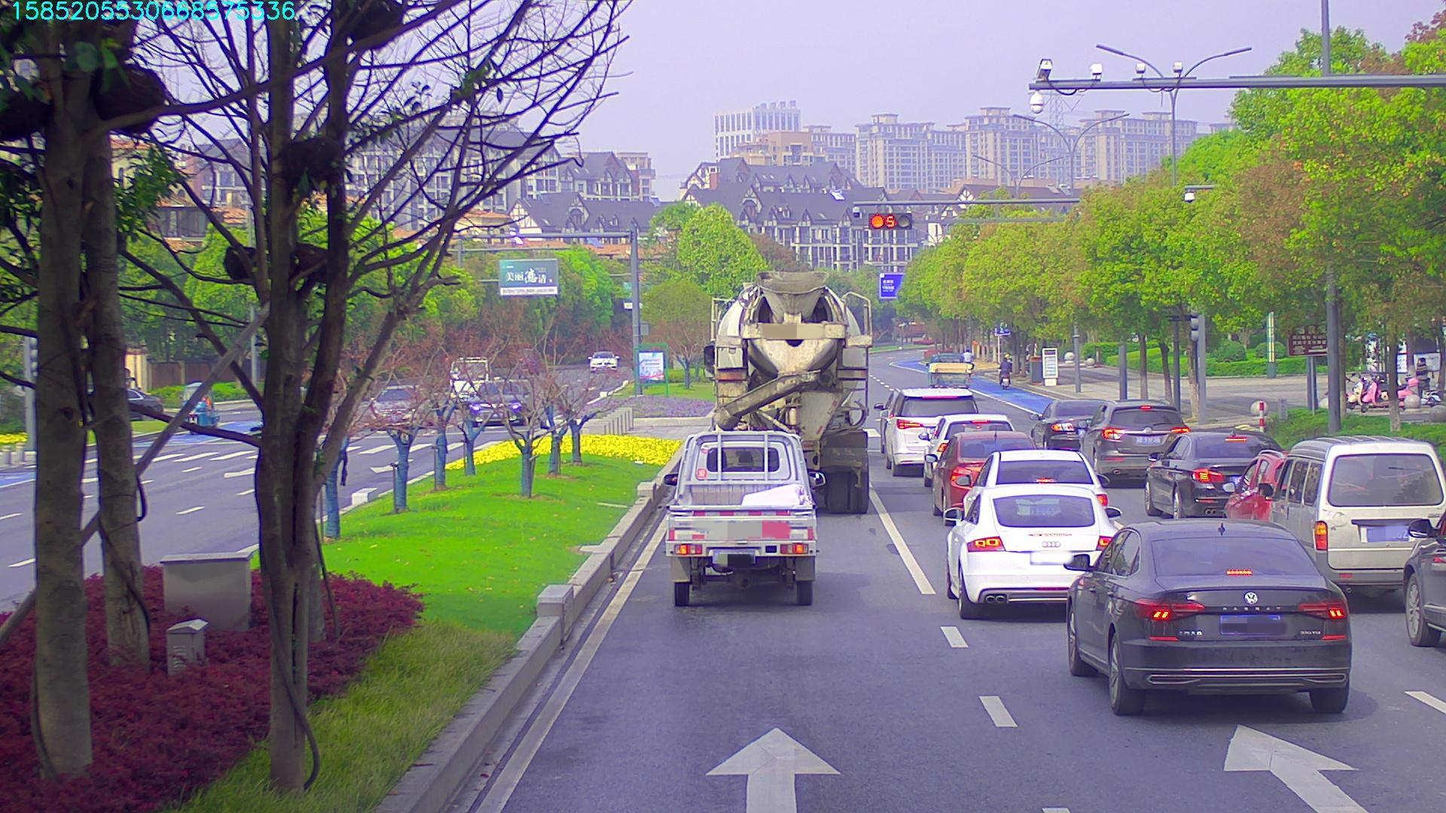red: (871, 213, 911, 231)
